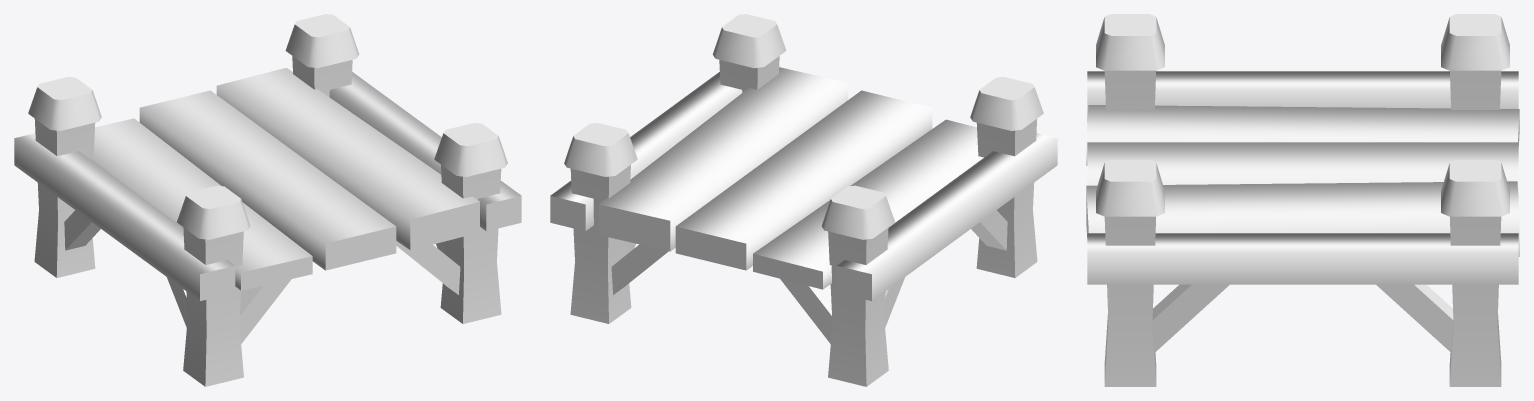
File: structure-platform-dock.glb
The picture shows the model from 3 angles, left to right: view 1: azimuth 30°, elevation 25°; view 2: azimuth 150°, elevation 25°; view 3: azimuth 270°, elevation 25°; orthographic projection. The views are drawn at different scales.
Parts seen in each view (by area): view 1: structure-platform-dock; view 2: structure-platform-dock; view 3: structure-platform-dock.
Part boxes in pixels (left/top/right/bottom): structure-platform-dock: left=14, top=14, right=521, bottom=386; structure-platform-dock: left=550, top=14, right=1057, bottom=386; structure-platform-dock: left=1086, top=14, right=1519, bottom=386.
Size of the model in its own units: 2.5 by 1.31 by 2.51.
1 material, 1 textured.
